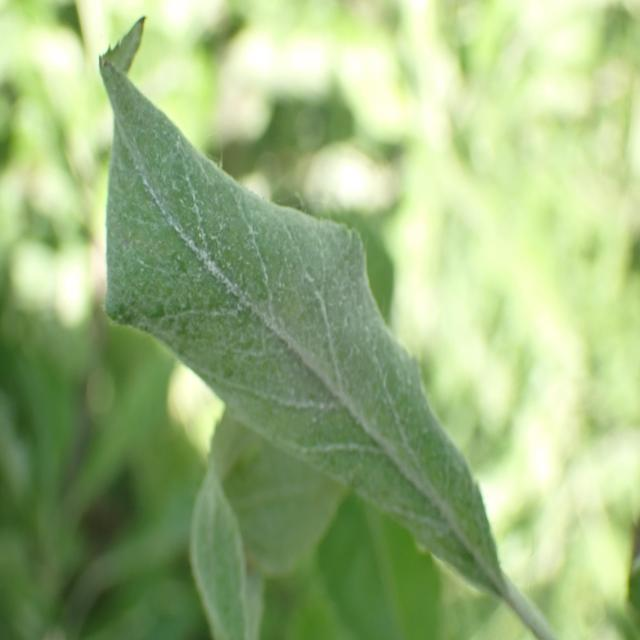Powdery_mildew: (64, 8, 544, 596), (183, 187, 427, 640)
